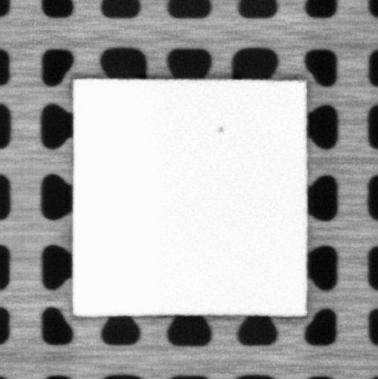DIE_INK: (214, 122, 226, 135)
